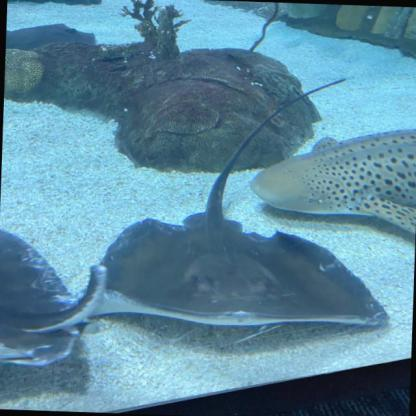shark: (247, 118, 415, 253)
stingray: (96, 209, 392, 333), (0, 224, 81, 370), (5, 22, 96, 64)
